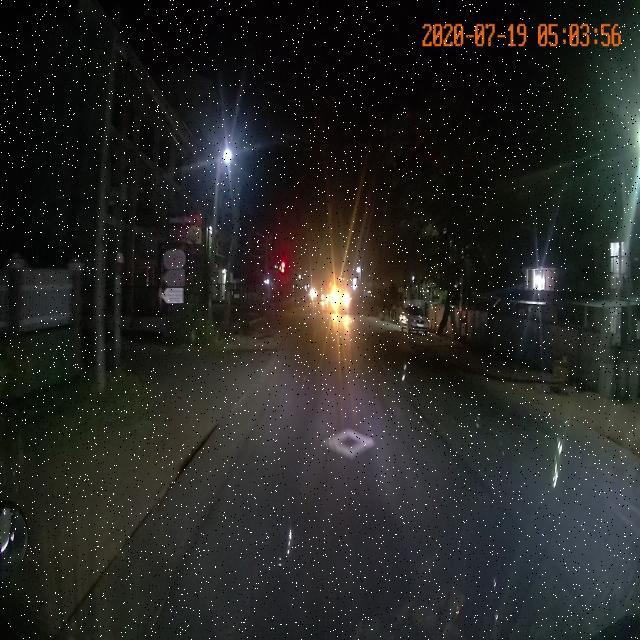diamond: (195, 419, 456, 461)
